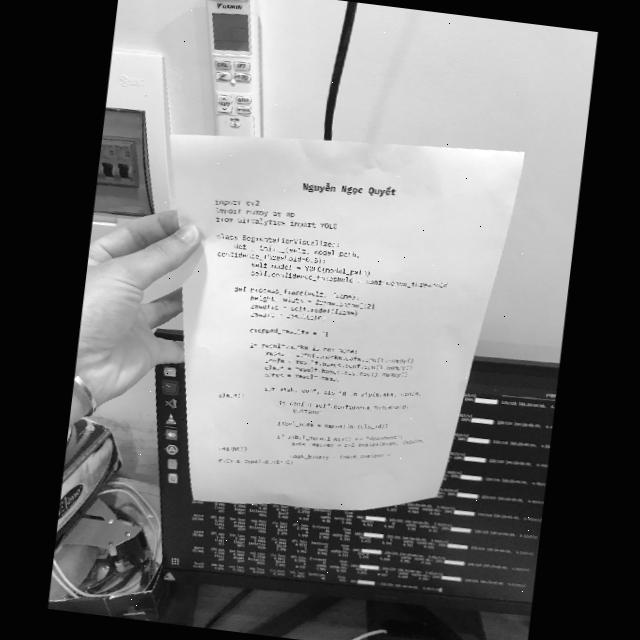document: (170, 135, 525, 510)
